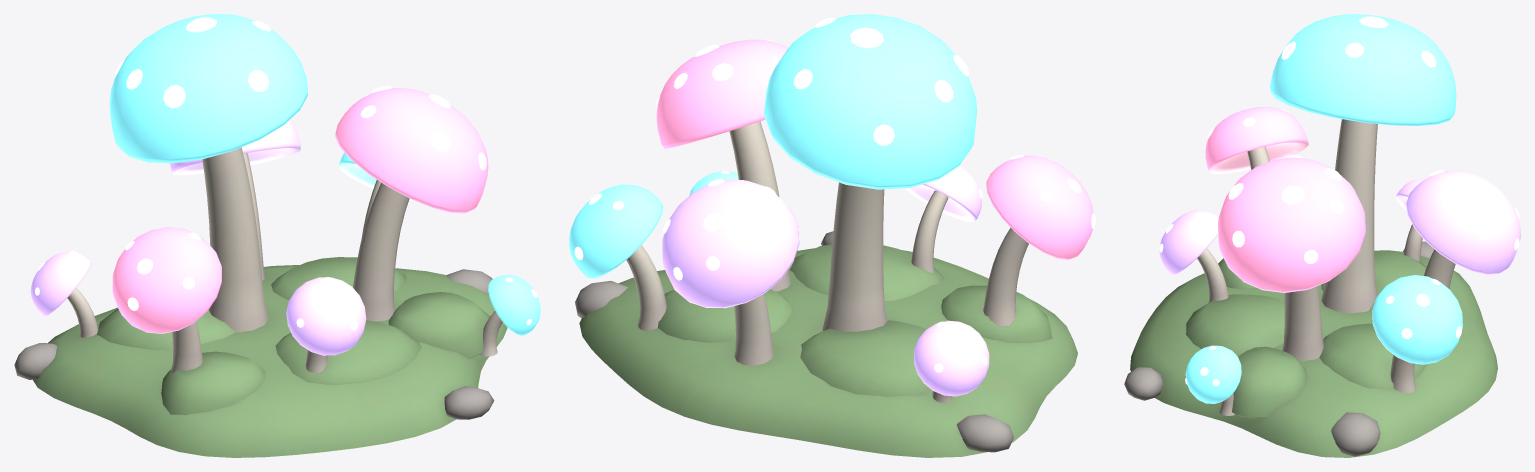
The model's file is glowing-mushrooms.glb.
3 renders of one model, left to right at view 1: azimuth 30°, elevation 25°; view 2: azimuth 150°, elevation 25°; view 3: azimuth 270°, elevation 25°, orthographic. The views are drawn at different scales.
Parts seen in each view (by area): view 1: glowing-mushrooms.001; view 2: glowing-mushrooms.001; view 3: glowing-mushrooms.001.
Part boxes in pixels (bbox=[...]): glowing-mushrooms.001: bbox=[14, 14, 540, 457]; glowing-mushrooms.001: bbox=[569, 14, 1095, 457]; glowing-mushrooms.001: bbox=[1124, 14, 1520, 457].
Bounding box in the file's own units: 1.36 × 1 × 1.14.
Materials: 8 (1 with a texture image).
